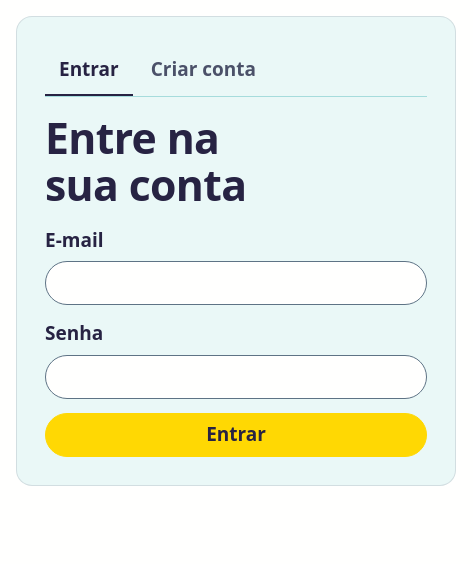
it: Login (entrar) › e-mail sem-arroba.com é recusado antes de enviar
Type "sem-arroba.com" into the field labelled "E-mail" at (236, 283), box [45,261,427,305]
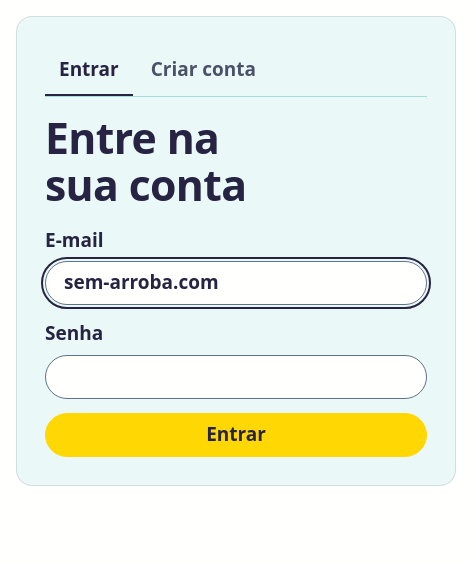
Type "qualquer" into the password field labelled "Senha" at (236, 377), box [45,355,427,399]
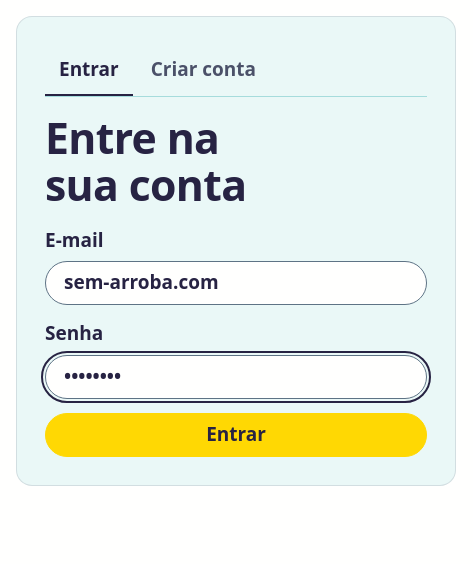
Click the button "Entrar" at (236, 435), box [45,413,427,457]
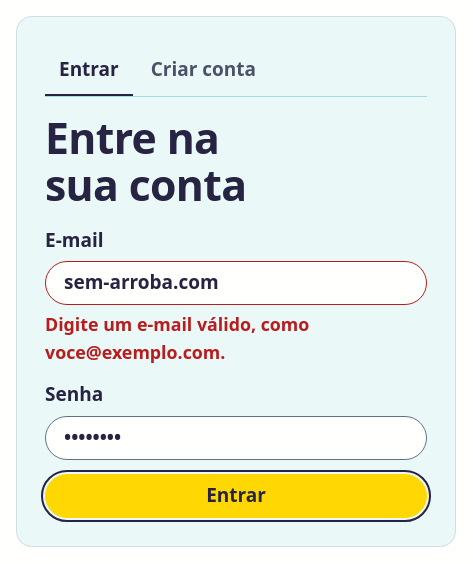
Expected: the text "Digite um e-mail válido, como voce@exemplo.com." is shown, [45,312,309,364]
